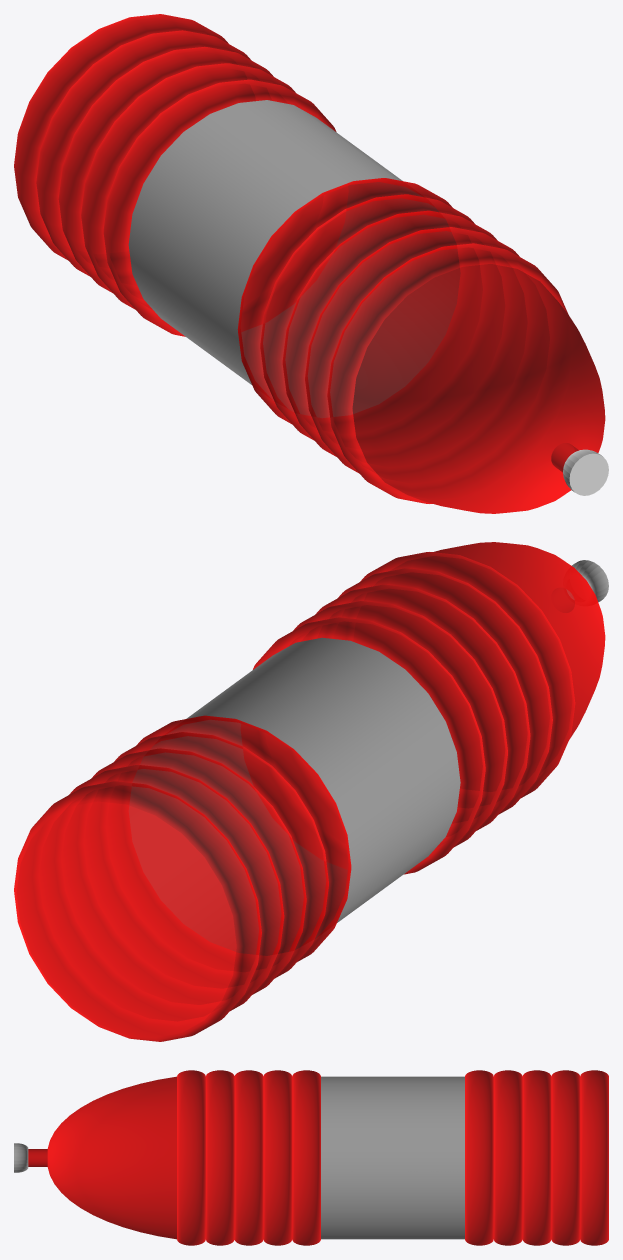
File: model_scale.obj
3 views of the same model, one above another, from view 1: azimuth 30°, elevation 25°; view 2: azimuth 150°, elevation 25°; view 3: azimuth 270°, elevation 25° (orthographic). The views are drawn at different scales.
Parts seen in each view (by area): view 1: mesh1_mesh1-geometry; view 2: mesh1_mesh1-geometry; view 3: mesh1_mesh1-geometry.
Boxes of the visible parts, bbox=[...] form: mesh1_mesh1-geometry: bbox=[14, 14, 608, 513]; mesh1_mesh1-geometry: bbox=[14, 542, 608, 1041]; mesh1_mesh1-geometry: bbox=[14, 1070, 608, 1245].
Size of the model in its own units: 0.0839 by 0.0839 by 0.2835.
